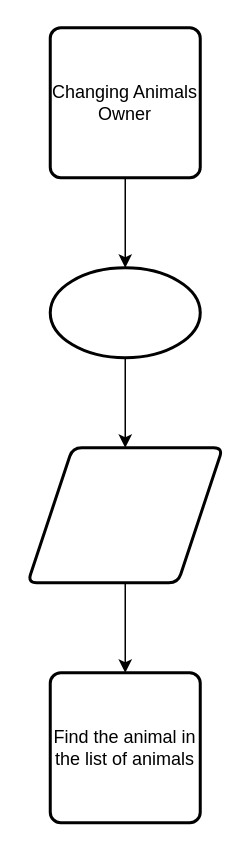
Some shapes in this 249 by 849 pixel diagram are drawn without their labels. Here are the shapes that lost their labels. From the top down, the centre of each, then its label:
At pixel 124 312: "Start".
At pixel 125 515: "Animals Name:".
